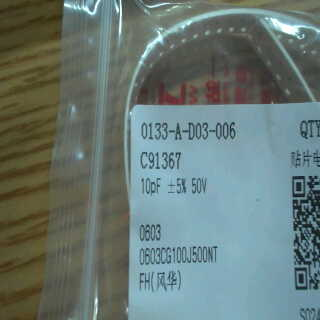10pF: (140, 171, 163, 201)
